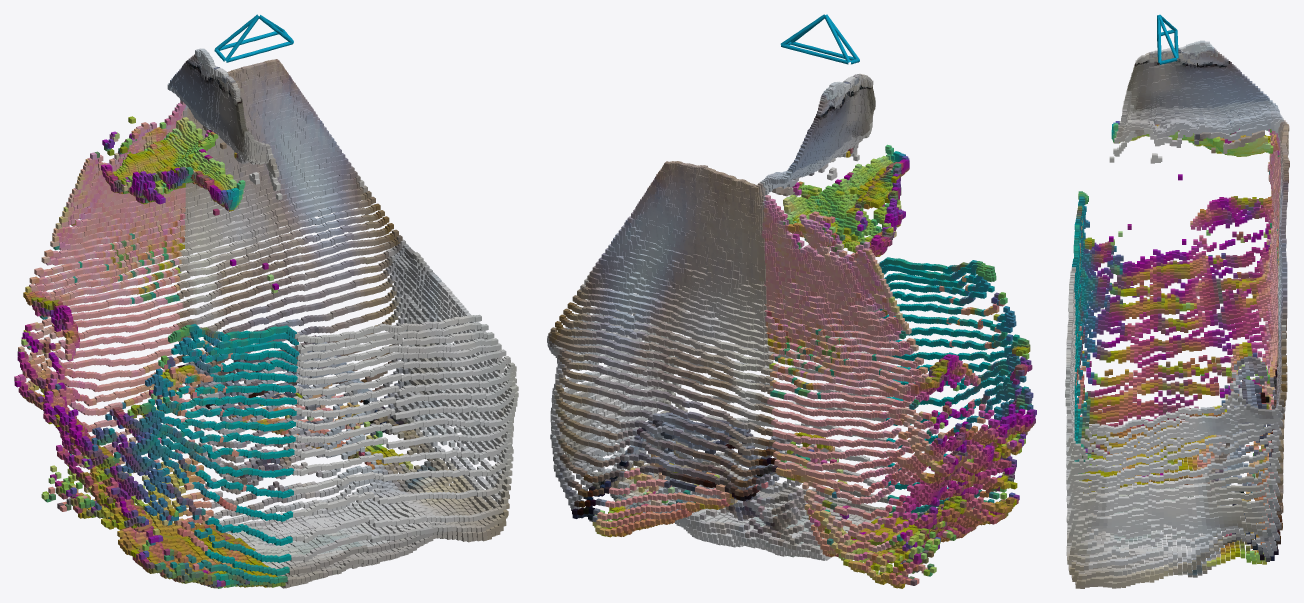
The model's file is pred_0-compressed.glb.
The picture shows the model from 3 angles, left to right: view 1: azimuth 30°, elevation 25°; view 2: azimuth 150°, elevation 25°; view 3: azimuth 270°, elevation 25°; orthographic projection. The views are drawn at different scales.
Bounding box in the file's own units: 4.93 × 6.16 × 2.54.
